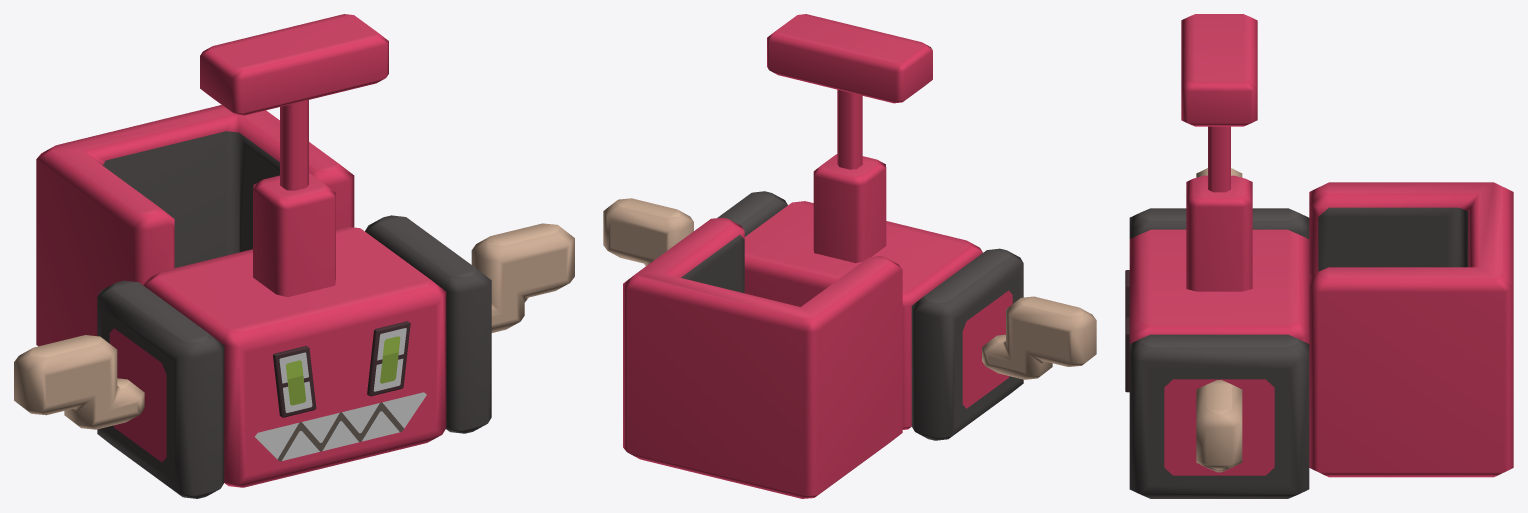
3 renders of one model, left to right at view 1: azimuth 30°, elevation 25°; view 2: azimuth 150°, elevation 25°; view 3: azimuth 270°, elevation 25°, orthographic. The views are drawn at different scales.
Visible parts, largest first — view 1: model; view 2: model; view 3: model.
Part boxes in pixels (x1,y1,x2,y2): model: (14,14,574,498); model: (603,14,1096,498); model: (1125,14,1513,498).
Bounding box in the file's own units: 2.52 × 1.73 × 1.6.
